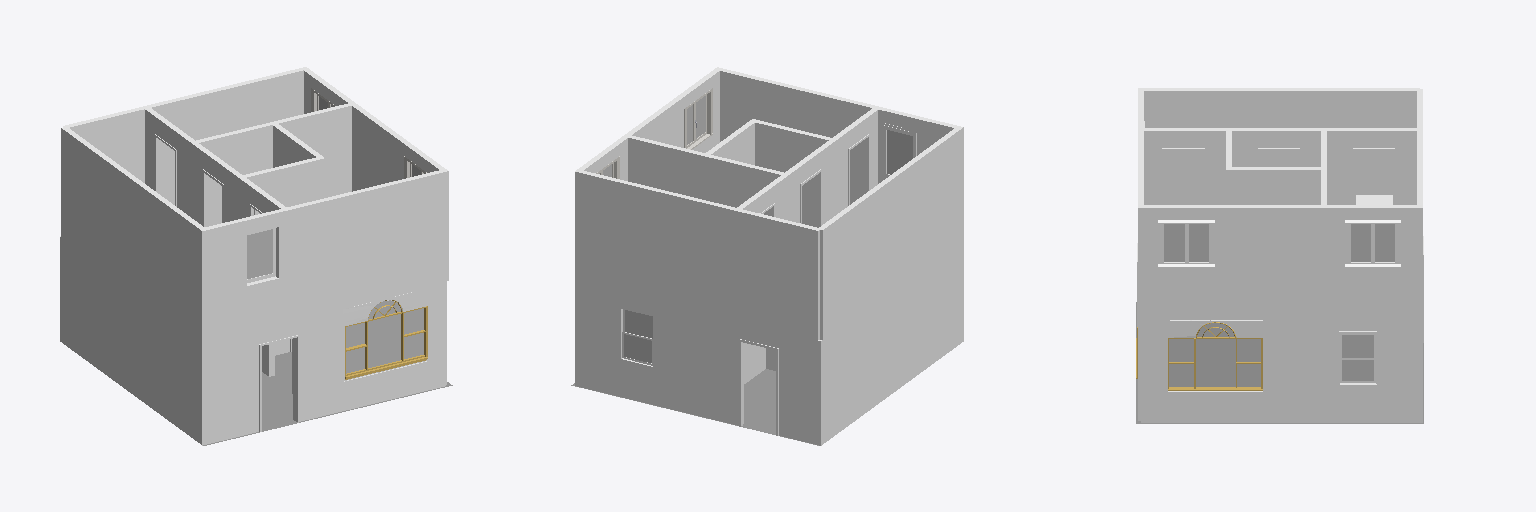
The model's file is victorian.obj.
The picture shows the model from 3 angles: view 1: azimuth 30°, elevation 25°; view 2: azimuth 150°, elevation 25°; view 3: azimuth 270°, elevation 25°; orthographic projection.
Parts seen in each view (by area): view 1: wall_10_59, wall_1_5, wall_9_53, wall_2_10, wall_12_70, wall_14_83, wall_13_77, wall_11_64, wall_16_94, ground_1, sweethome3d_window_pane_149, sweethome3d_window_pane_on_hinge_1_240 (+6 smaller); view 2: wall_12_71, wall_3_16, wall_9_53, wall_2_10, wall_10_58, wall_14_82, wall_13_77, wall_11_64, wall_16_95, ground_1, wall_15_89, sweethome3d_window_pane_on_hinge_1_240 (+7 smaller); view 3: wall_11_65, wall_4_22, wall_9_52, wall_13_76, wall_15_88, sweethome3d_window_pane_180, PolyMesh_1_201, 219, 224, 231, 225, 226 (+10 smaller).
Part boxes in pixels (left/top/right/bottom): wall_10_59: left=202, top=171, right=448, bottom=340; wall_1_5: left=202, top=282, right=445, bottom=445; wall_9_53: left=61, top=128, right=201, bottom=339; wall_2_10: left=60, top=237, right=201, bottom=444; wall_12_70: left=70, top=70, right=303, bottom=204; wall_14_83: left=199, top=106, right=351, bottom=225; wall_13_77: left=145, top=110, right=280, bottom=224; wall_11_64: left=304, top=71, right=438, bottom=191; wall_16_94: left=247, top=158, right=324, bottom=213; ground_1: left=203, top=352, right=452, bottom=445; sweethome3d_window_pane_149: left=368, top=314, right=400, bottom=367; sweethome3d_window_pane_on_hinge_1_240: left=247, top=229, right=272, bottom=278; wall_12_71: left=575, top=172, right=819, bottom=339; wall_3_16: left=575, top=281, right=820, bottom=445; wall_9_53: left=820, top=127, right=963, bottom=339; wall_2_10: left=821, top=237, right=963, bottom=445; wall_10_58: left=720, top=71, right=953, bottom=204; wall_14_82: left=628, top=138, right=780, bottom=214; wall_13_77: left=743, top=110, right=877, bottom=224; wall_11_64: left=584, top=71, right=719, bottom=180; wall_16_95: left=755, top=123, right=828, bottom=226; ground_1: left=571, top=369, right=818, bottom=445; wall_15_89: left=711, top=123, right=754, bottom=164; sweethome3d_window_pane_on_hinge_1_240: left=887, top=130, right=912, bottom=174; wall_11_65: left=1138, top=208, right=1422, bottom=317; wall_4_22: left=1141, top=318, right=1422, bottom=422; wall_9_52: left=1144, top=91, right=1416, bottom=199; wall_13_76: left=1144, top=131, right=1416, bottom=204; wall_15_88: left=1226, top=170, right=1320, bottom=204; sweethome3d_window_pane_180: left=1196, top=339, right=1235, bottom=386; PolyMesh_1_201: left=1167, top=320, right=1264, bottom=337; 219: left=1164, top=224, right=1184, bottom=261; 224: left=1158, top=220, right=1214, bottom=267; 231: left=1345, top=220, right=1400, bottom=267; 225: left=1189, top=224, right=1208, bottom=261; 226: left=1351, top=224, right=1370, bottom=261.
Bounding box in the file's own units: 623 × 512 × 624.